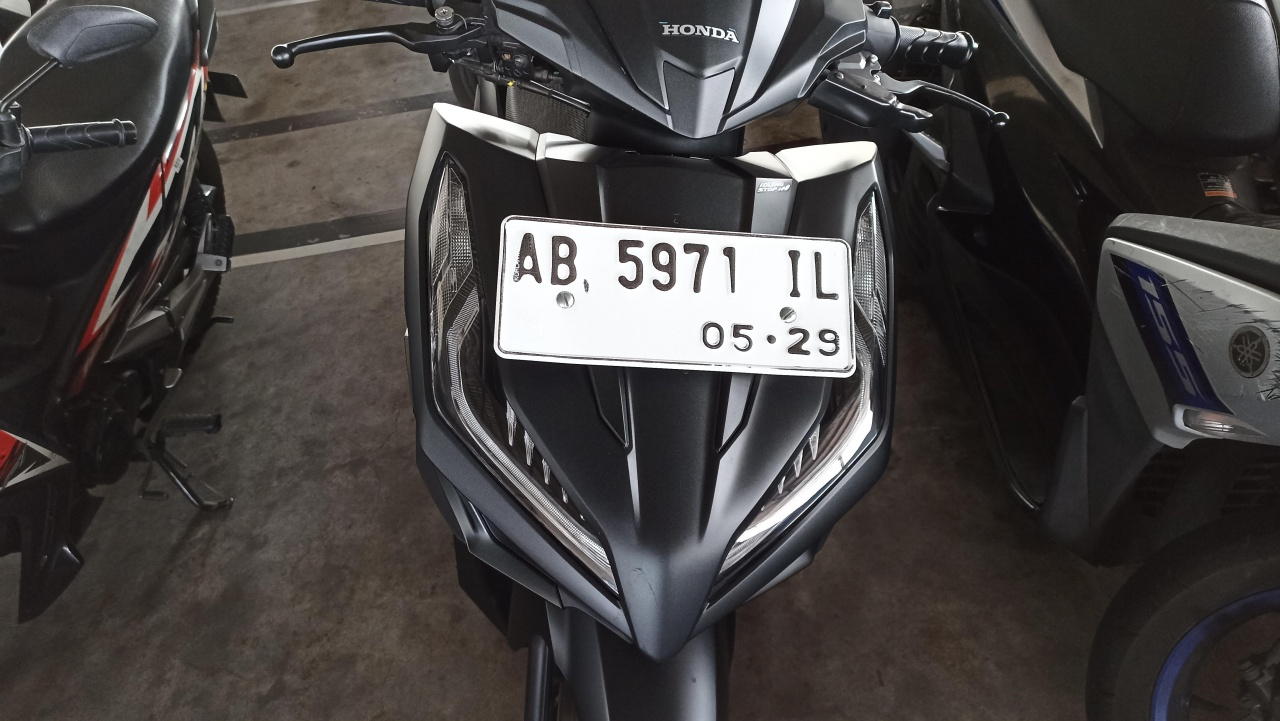plate: (496, 216, 857, 374)
